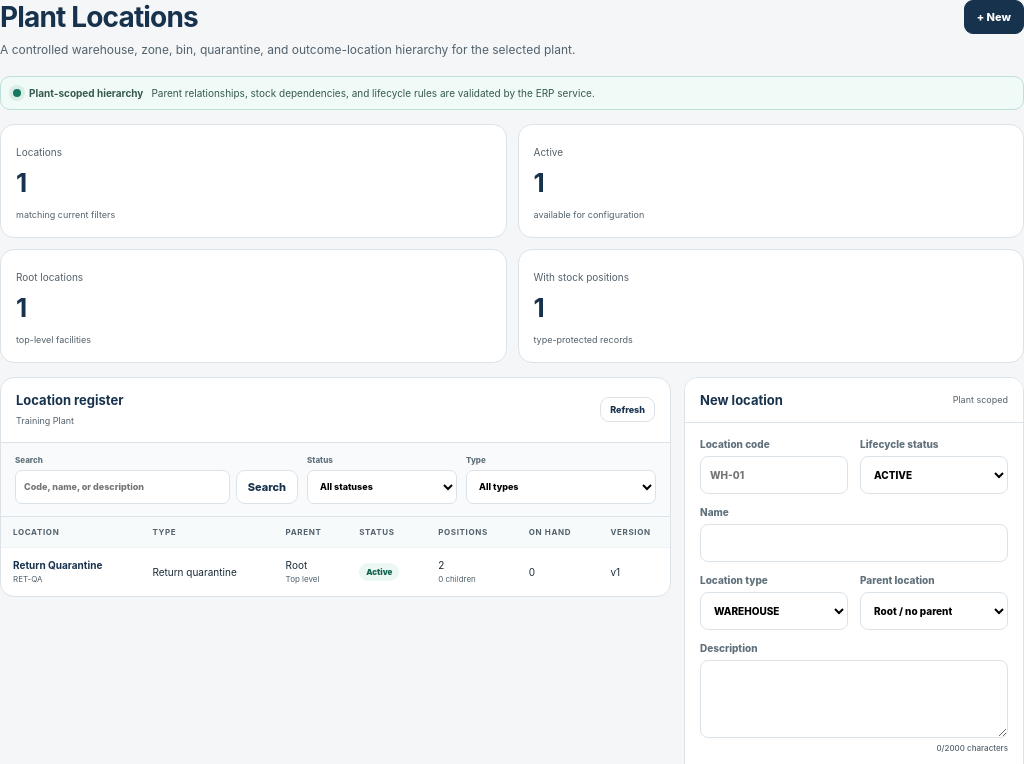
Test: foundation administration workspaces › creates a hierarchical plant location without prototype data
The width and height of the screenshot is (1024, 764).
Check: the text "Return Quarantine" is shown, box [13, 559, 102, 571]
Click the button "+ New". click: (994, 17)
box: [964, 0, 1023, 34]
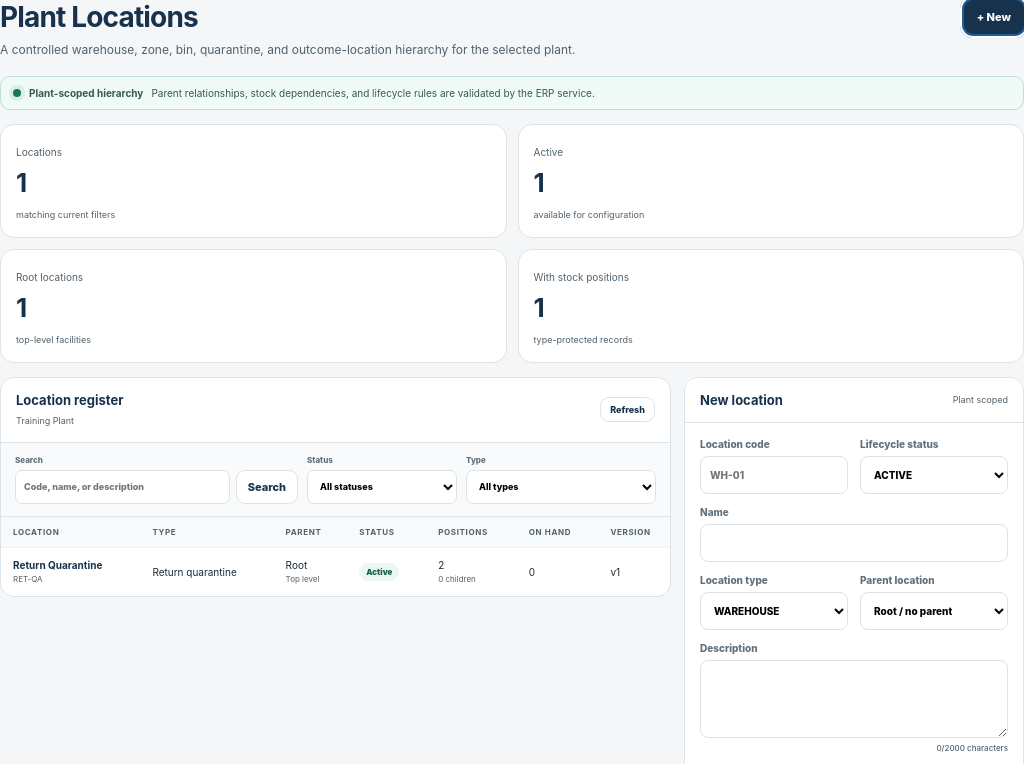
Type "bulk-01" into the field labelled "Location code". click: (774, 475)
box: [700, 456, 848, 494]
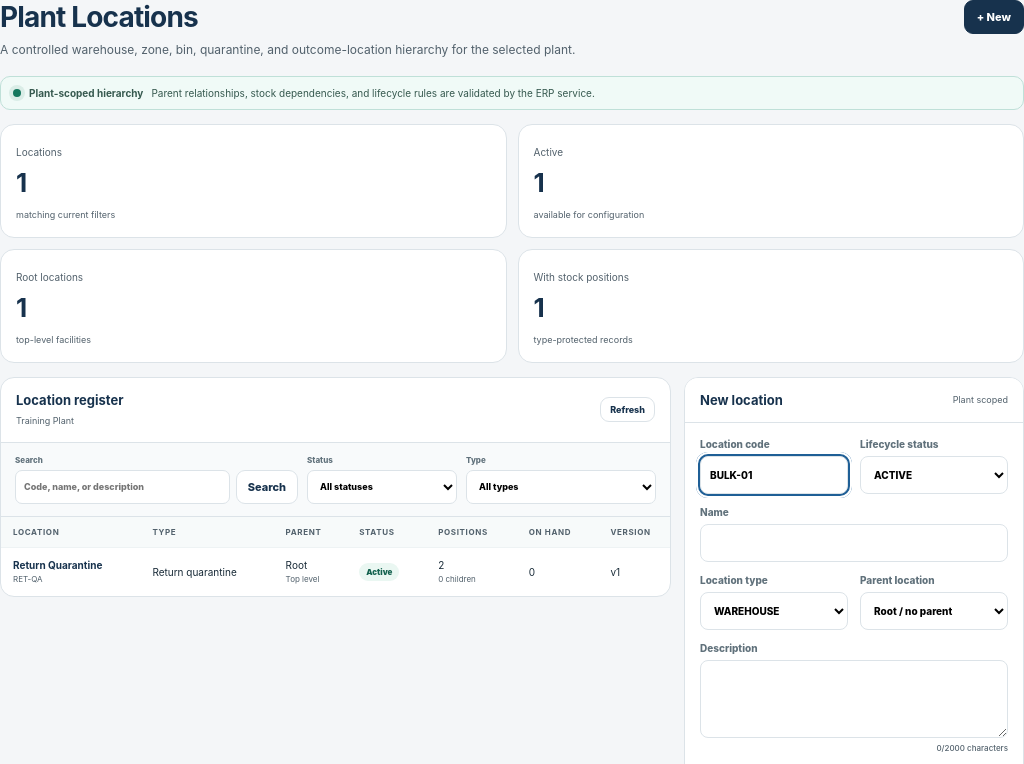
Type "Bulk Store" into the field labelled "Name". click: (854, 543)
box: [700, 524, 1008, 562]
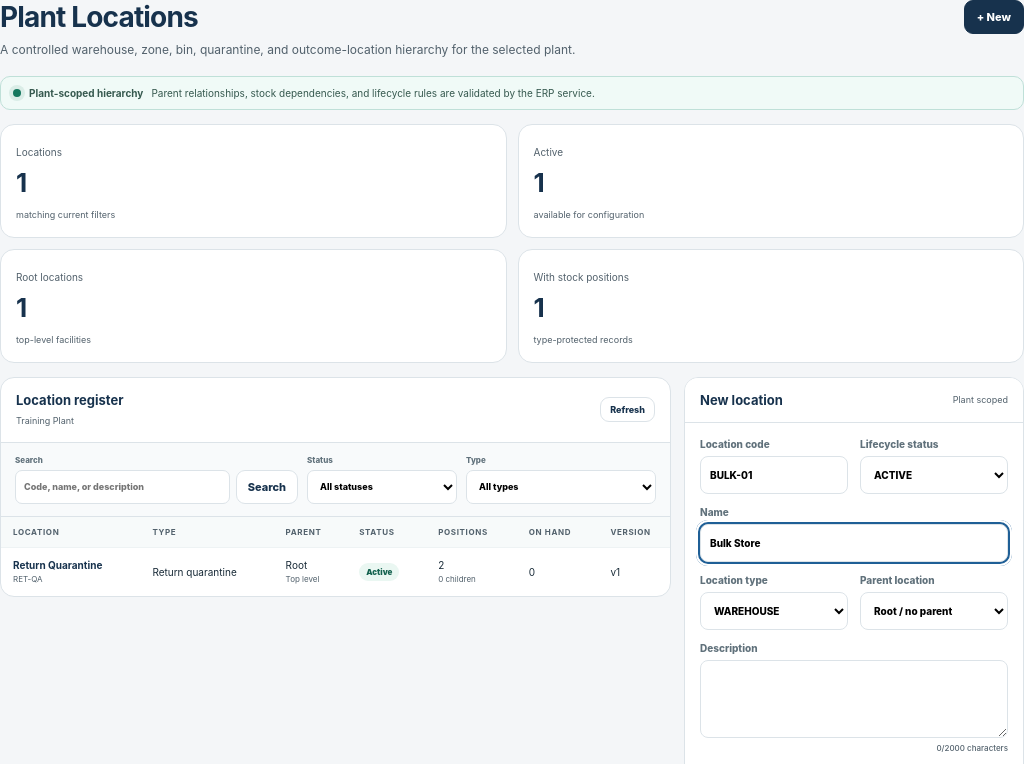
Select "ZONE" in the dropdown labelled "Location type". click: (774, 611)
box: [700, 592, 848, 630]
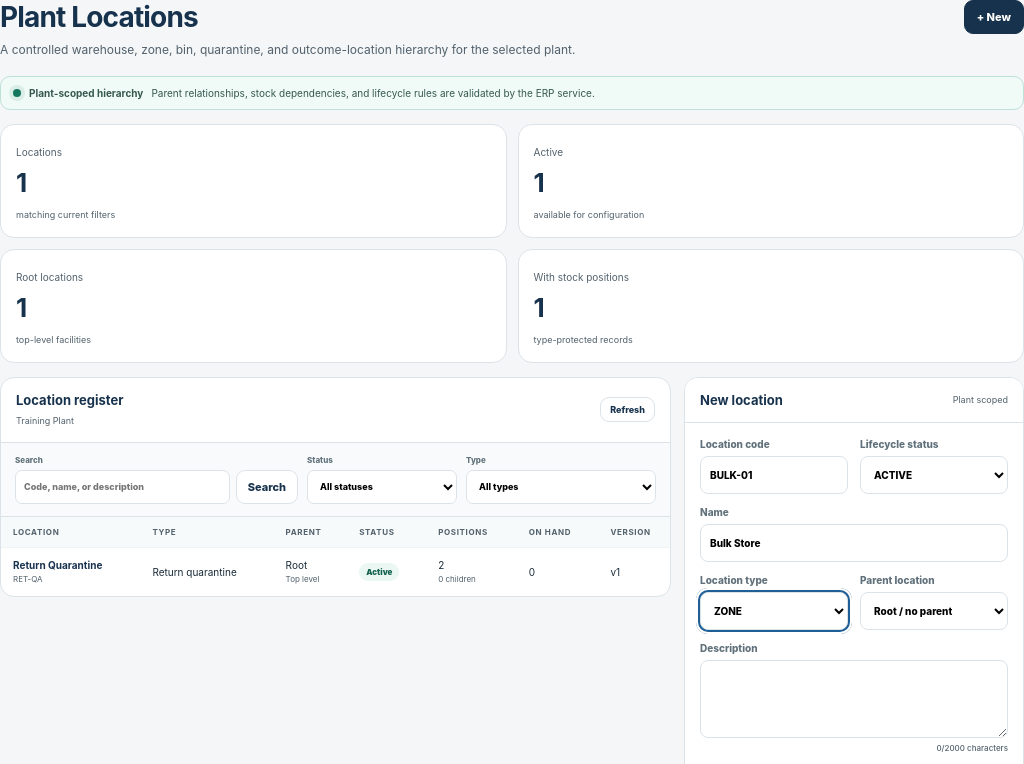
Select "RET-QA - Return Quarantine" in the dropdown labelled "Parent location". click: (934, 611)
box: [860, 592, 1008, 630]
(page scrolled)
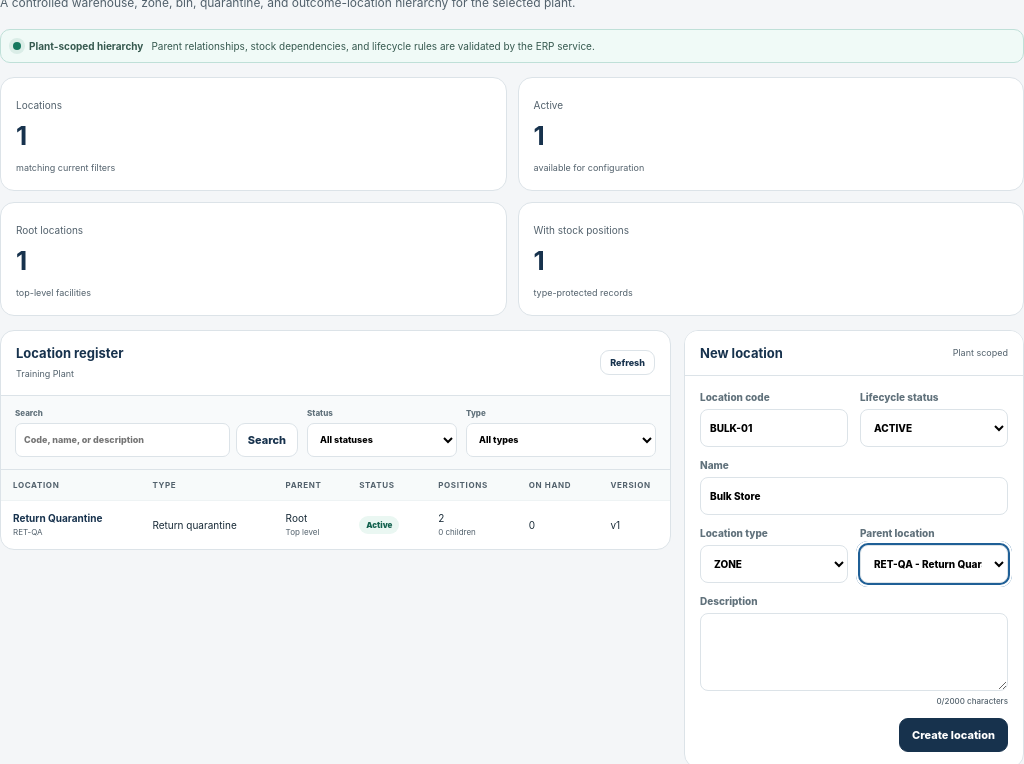
Click the button "Create location". click: (954, 734)
box: [899, 718, 1008, 752]
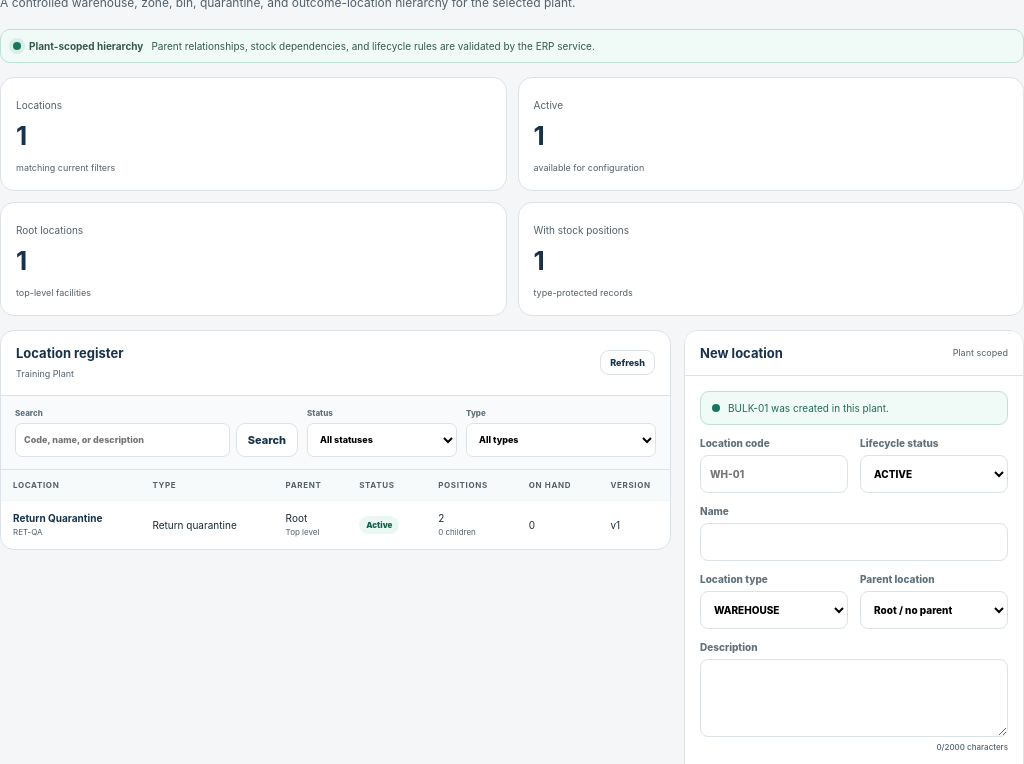
Check: the message shows "BULK-01 was created", box [728, 402, 889, 414]
